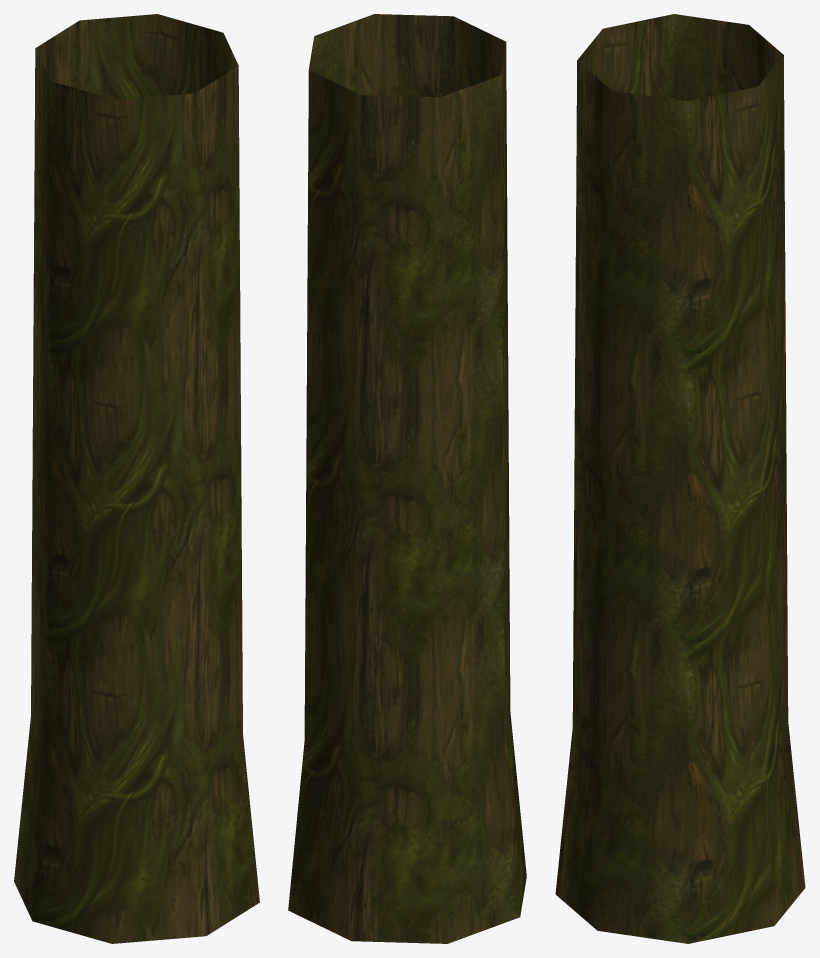
The model's file is plant_yewai_jinglingjushu.FBX.
The picture shows the model from 3 angles, left to right: view 1: azimuth 30°, elevation 25°; view 2: azimuth 150°, elevation 25°; view 3: azimuth 270°, elevation 25°; orthographic projection.
Parts seen in each view (by area): view 1: plant_yewai_jinglingjushu; view 2: plant_yewai_jinglingjushu; view 3: plant_yewai_jinglingjushu.
Boxes of the visible parts, bbox=[...] form: plant_yewai_jinglingjushu: bbox=[14, 14, 259, 943]; plant_yewai_jinglingjushu: bbox=[288, 14, 526, 943]; plant_yewai_jinglingjushu: bbox=[555, 14, 805, 943].
Size of the model in its own units: 55 by 55 by 202.
